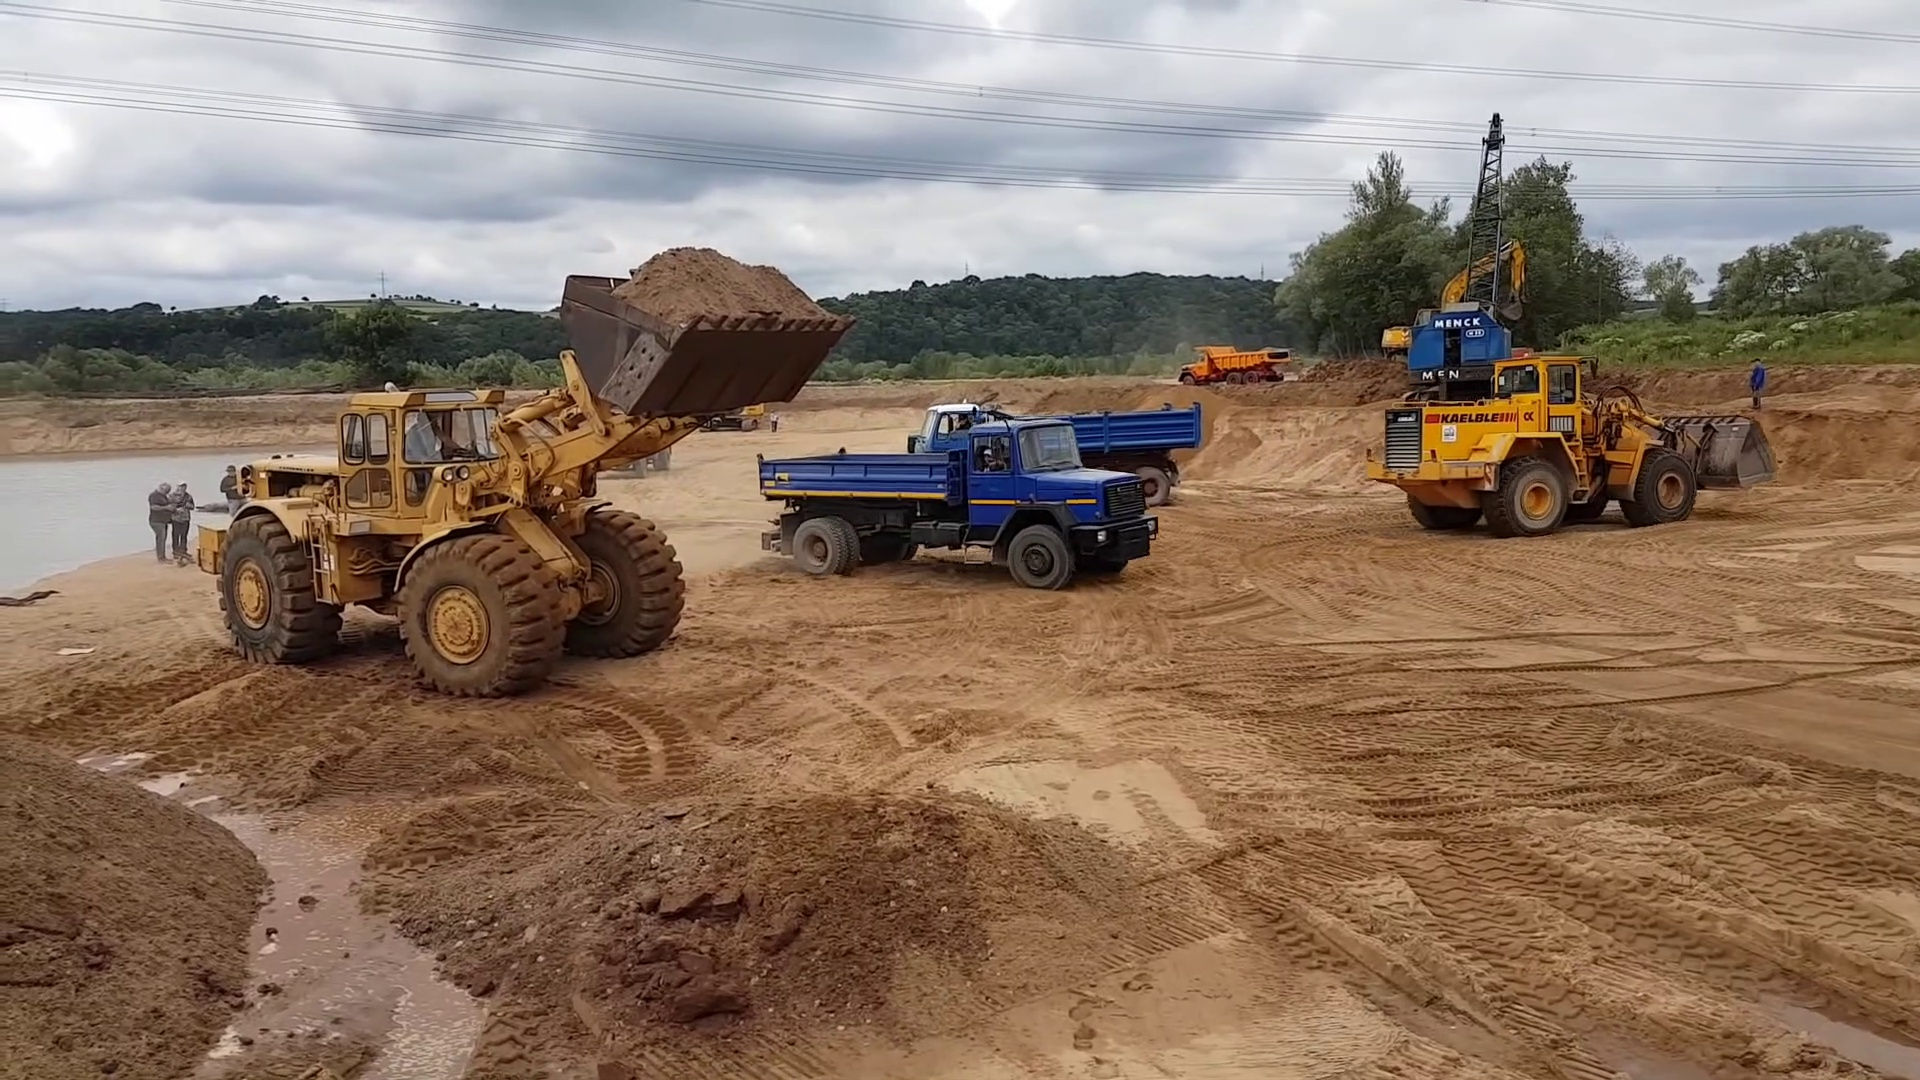excavator: (1375, 240, 1533, 351)
person: (151, 470, 189, 568), (1742, 361, 1769, 414)
truck: (751, 422, 1159, 588), (912, 396, 1206, 508), (1179, 341, 1288, 387)
wheel loader: (200, 261, 859, 696), (1368, 354, 1787, 533)
